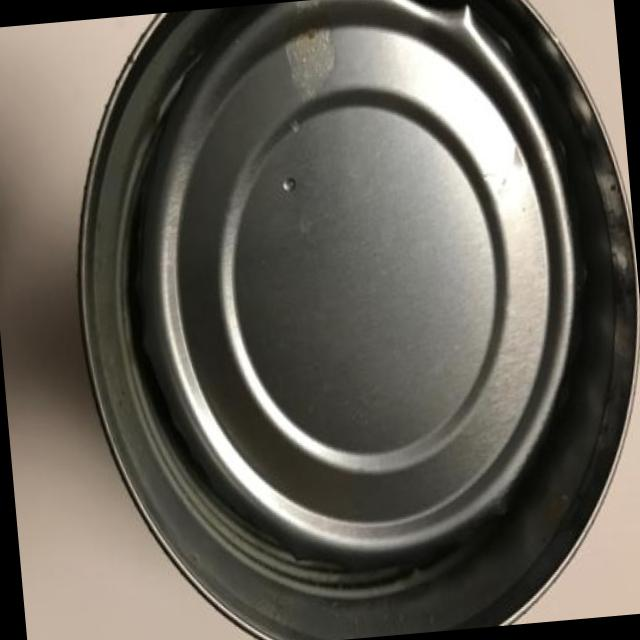kim_loai: (79, 0, 639, 640)
